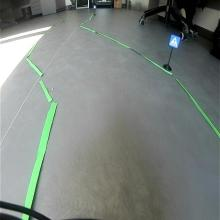crosswalk: (168, 33, 180, 49)
